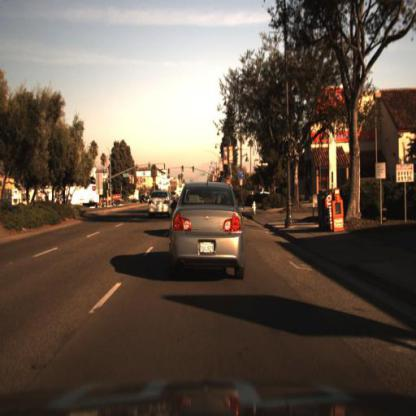car: (167, 178, 253, 279), (148, 187, 175, 224), (81, 198, 102, 210)
trafficLight-Green: (180, 165, 187, 178), (191, 166, 199, 177)
